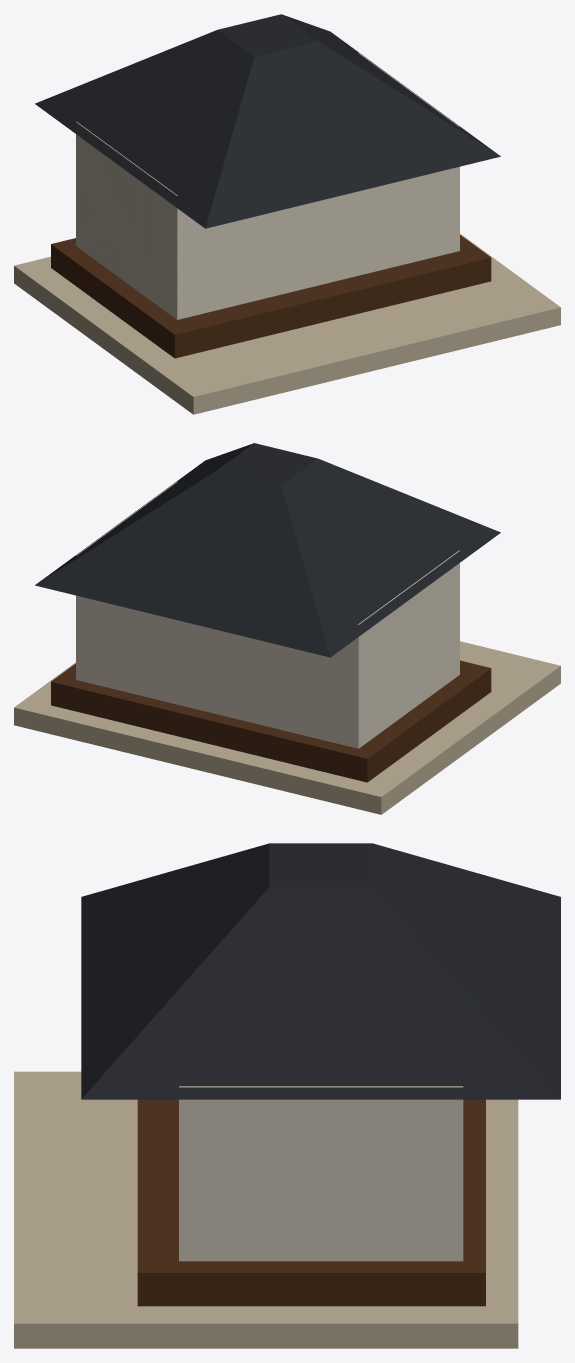
The model's file is terakoya-school.glb.
The picture shows the model from 3 angles, top to bottom: view 1: azimuth 30°, elevation 25°; view 2: azimuth 150°, elevation 25°; view 3: azimuth 270°, elevation 25°; orthographic projection. The views are drawn at different scales.
Visible parts, largest first — view 1: terakoya-school_Opaque; view 2: terakoya-school_Opaque; view 3: terakoya-school_Opaque.
Part boxes in pixels (bbox=[...]): terakoya-school_Opaque: bbox=[14, 14, 560, 414]; terakoya-school_Opaque: bbox=[14, 443, 560, 814]; terakoya-school_Opaque: bbox=[14, 843, 560, 1348].
Size of the model in its own units: 13 by 8.6 by 11.93.
